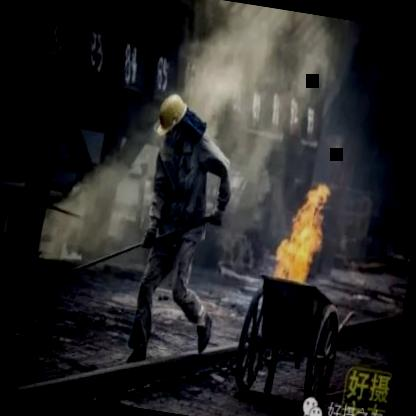helmet: (152, 85, 192, 140)
